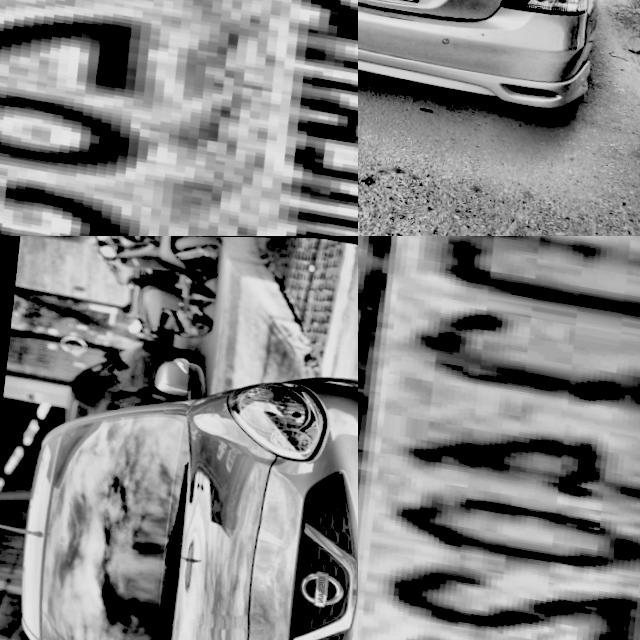license-plate: (358, 236, 640, 640), (0, 0, 358, 236)
